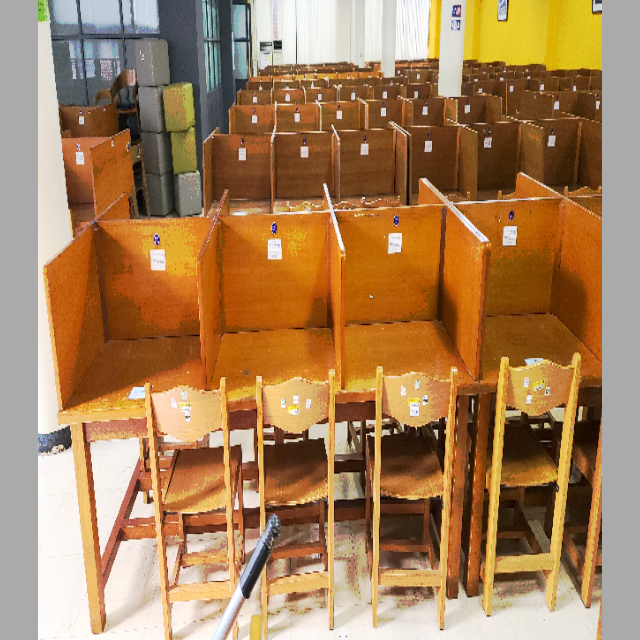empty: (44, 229, 208, 523), (211, 223, 342, 490), (348, 231, 484, 486)
